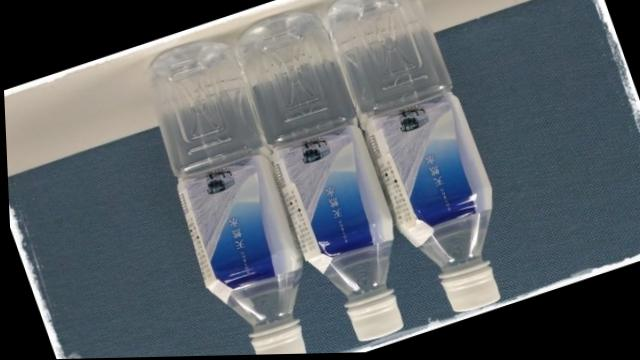plastic: (113, 0, 499, 353)
